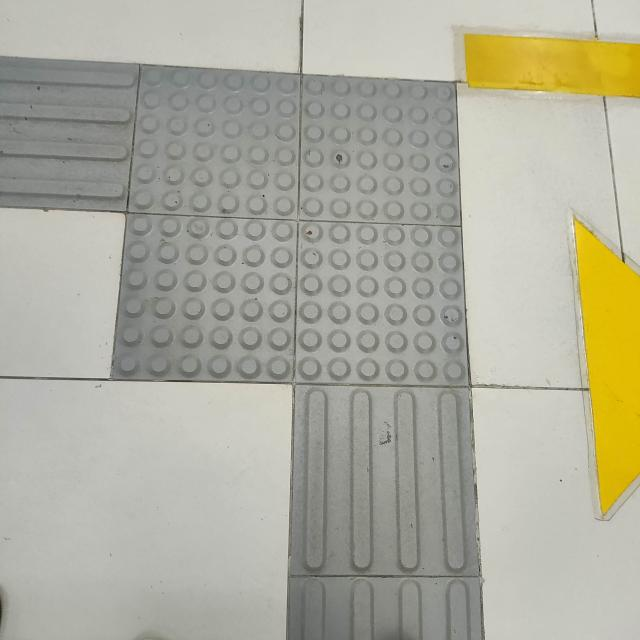kiri: (33, 37, 562, 521)
